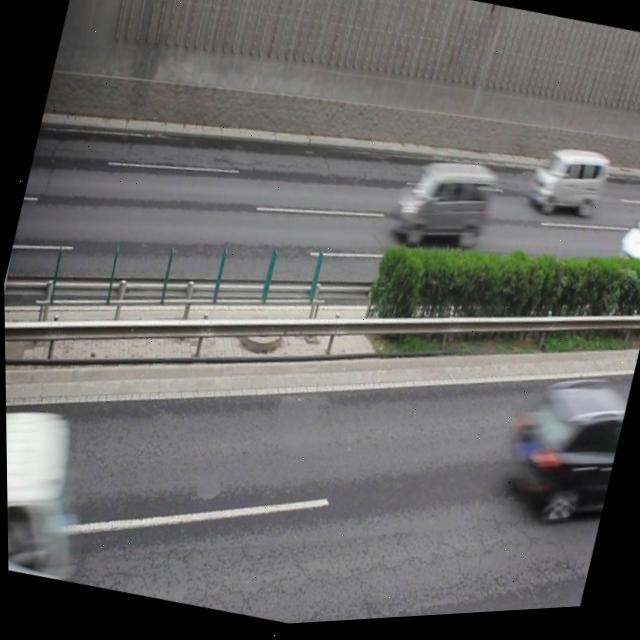bus: (5, 389, 100, 583)
car: (489, 372, 629, 531)
truck: (385, 150, 498, 263), (520, 144, 609, 234), (608, 205, 640, 296)
